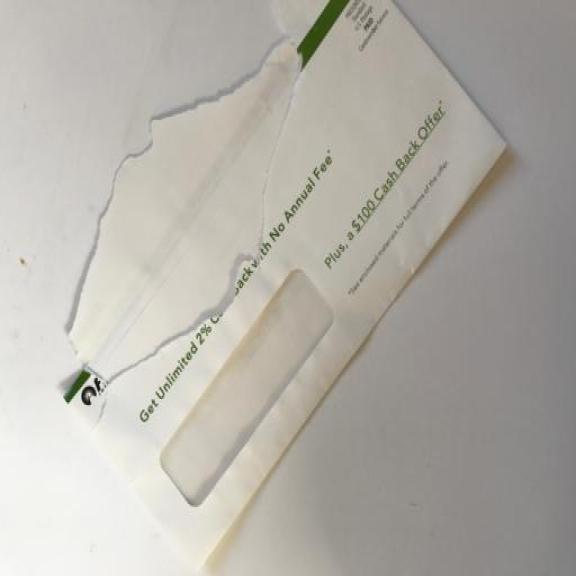Kertas: (46, 0, 520, 564)
